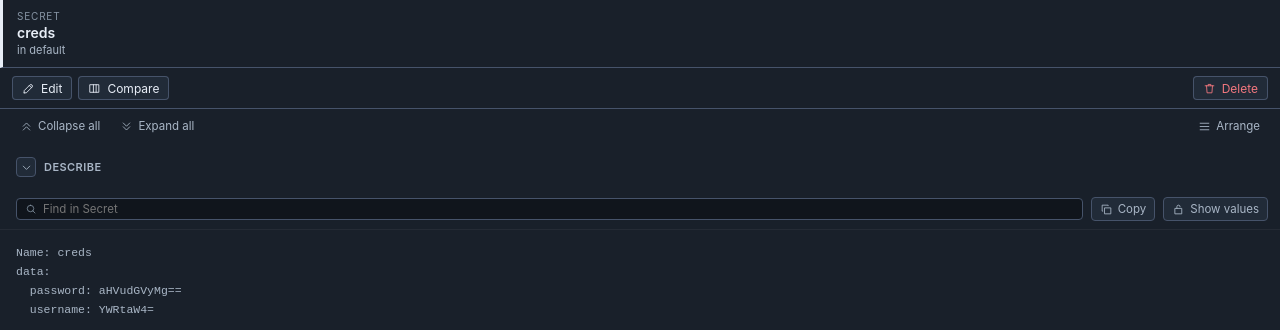
Test: a secret opens hidden and reveals its values on request
Step 1. Click the button "Show values" → [1216, 209], box [1163, 197, 1268, 221]
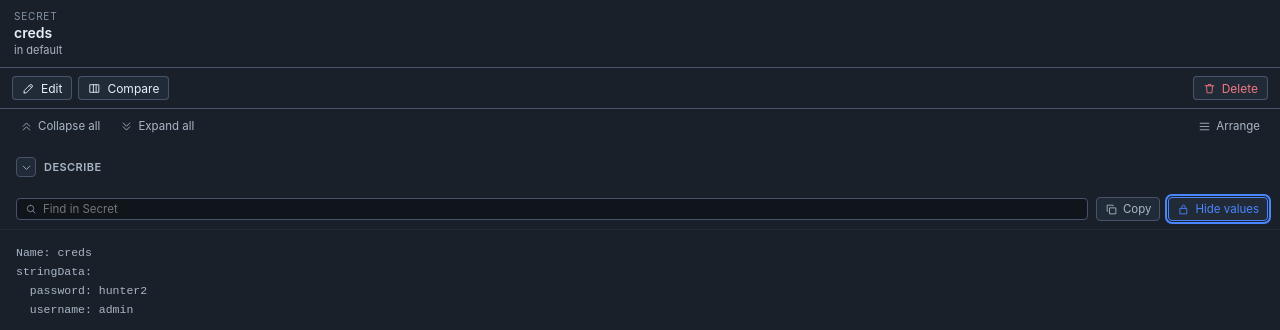
Expected: the button "Hide values" is shown, [1168, 197, 1268, 221]
